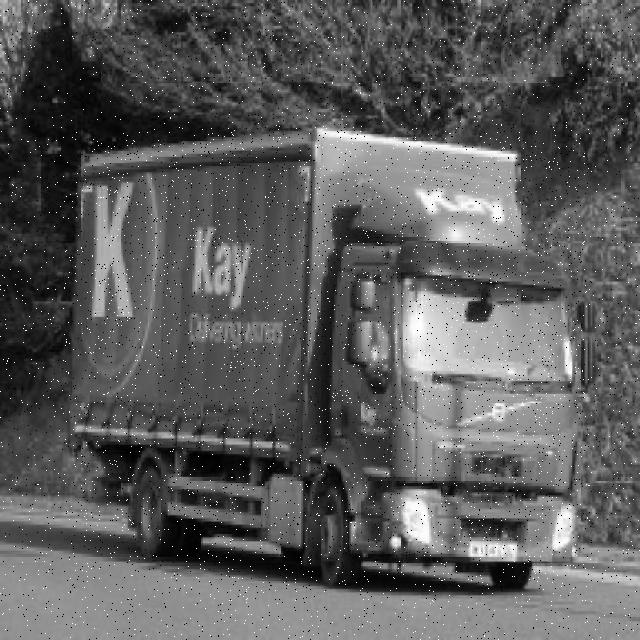Box Truck: (64, 127, 586, 593)
